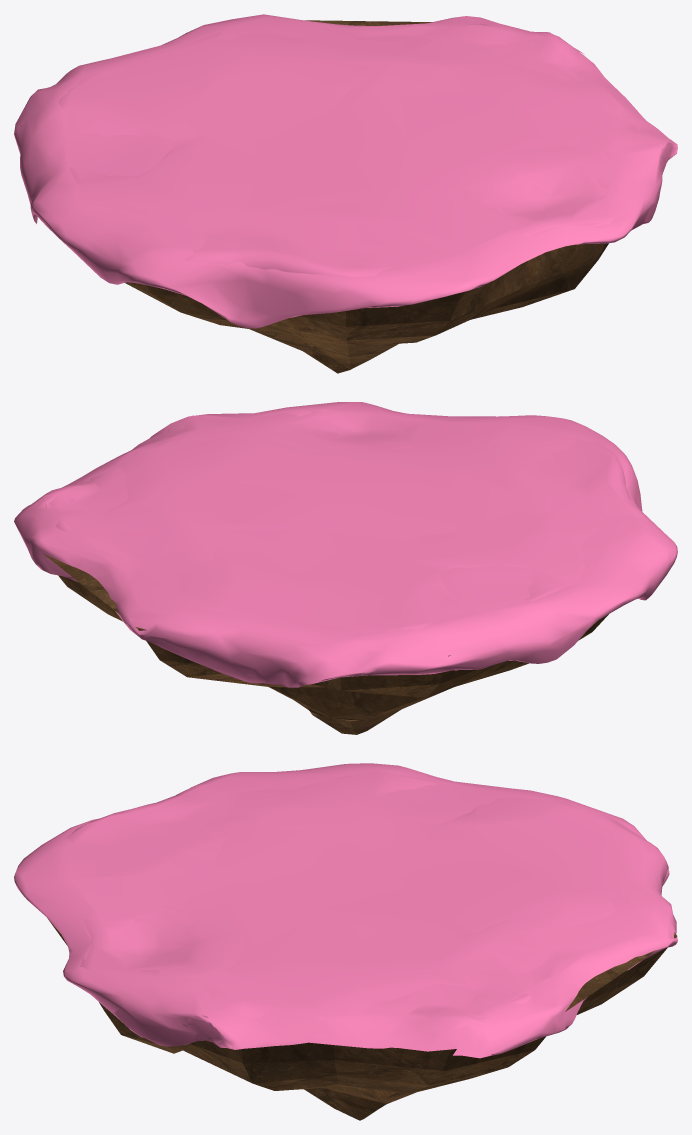
Rendered from Dolci_p1_LOD3.fbx.
The picture shows the model from 3 angles, top to bottom: view 1: azimuth 30°, elevation 25°; view 2: azimuth 150°, elevation 25°; view 3: azimuth 270°, elevation 25°; orthographic projection. The views are drawn at different scales.
Parts seen in each view (by area): view 1: Plane, ground; view 2: Plane, ground; view 3: Plane, ground.
Part boxes in pixels (x1=…): Plane: x1=14, y1=14, x2=677, y2=328; ground: x1=20, y1=20, x2=608, y2=373; Plane: x1=14, y1=402, x2=677, y2=687; ground: x1=43, y1=553, x2=608, y2=734; Plane: x1=14, y1=763, x2=677, y2=1058; ground: x1=48, y1=919, x2=677, y2=1120.
Bounding box in the file's own units: 524 × 199 × 521.
Materials: 2 (2 with a texture image).
